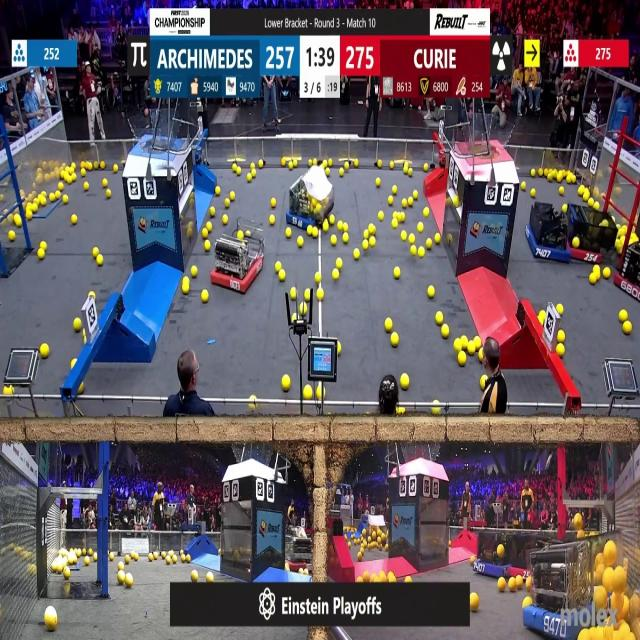ball_airborne: (594, 588, 606, 608)
ball_ground: (44, 610, 57, 632), (468, 594, 478, 612), (399, 375, 408, 390), (304, 386, 314, 399), (40, 344, 49, 358), (282, 376, 290, 391), (390, 334, 398, 348), (385, 318, 393, 332), (458, 352, 466, 366), (126, 574, 134, 587), (557, 344, 565, 357), (498, 577, 506, 590), (624, 322, 632, 334), (316, 288, 324, 300), (467, 342, 475, 354), (454, 340, 462, 352), (443, 324, 450, 337), (74, 318, 81, 331), (206, 571, 214, 582), (116, 572, 124, 583), (571, 238, 579, 249), (603, 268, 610, 280), (435, 313, 442, 325), (621, 310, 628, 322), (305, 288, 312, 300), (558, 332, 565, 344), (473, 338, 480, 350), (316, 386, 323, 398), (460, 337, 467, 349), (431, 408, 439, 418), (556, 304, 564, 314), (380, 571, 388, 581), (481, 376, 487, 389), (37, 249, 44, 260), (331, 270, 338, 281), (14, 216, 21, 227), (478, 350, 485, 361), (394, 268, 400, 280), (290, 288, 296, 300), (428, 286, 434, 298), (354, 248, 360, 260), (203, 290, 209, 302), (182, 282, 188, 294), (97, 255, 104, 265), (362, 240, 369, 250), (93, 247, 100, 257), (269, 215, 276, 225), (590, 275, 597, 285), (279, 271, 285, 282), (205, 241, 211, 252), (191, 570, 197, 581), (368, 223, 374, 234), (298, 305, 304, 316), (577, 185, 583, 196), (363, 570, 369, 581), (370, 572, 378, 580), (523, 598, 531, 606), (8, 233, 15, 242), (285, 230, 292, 239), (452, 198, 459, 207), (568, 174, 575, 183), (316, 273, 322, 283), (276, 263, 282, 273), (412, 246, 418, 256), (323, 221, 329, 231), (419, 248, 425, 258), (297, 238, 303, 248), (330, 236, 336, 246), (434, 235, 440, 245), (426, 240, 432, 250), (106, 188, 112, 198), (190, 268, 196, 278), (203, 230, 209, 240), (410, 235, 416, 245), (379, 211, 385, 221), (338, 220, 344, 230), (64, 568, 70, 578), (308, 225, 314, 235), (388, 571, 394, 581), (398, 212, 404, 222), (594, 201, 600, 211), (356, 574, 363, 582), (55, 191, 62, 199), (344, 234, 349, 245), (71, 215, 77, 224), (418, 222, 424, 231), (388, 197, 394, 206), (423, 208, 429, 217), (368, 238, 374, 247), (400, 233, 406, 242), (409, 199, 415, 208), (83, 557, 89, 566), (594, 266, 600, 275), (539, 312, 545, 321), (402, 166, 408, 175), (27, 211, 33, 220), (66, 174, 72, 183), (88, 163, 94, 172), (40, 198, 46, 207), (231, 163, 237, 172), (541, 169, 547, 178), (32, 204, 38, 213), (338, 258, 343, 268), (313, 229, 318, 239), (78, 384, 83, 394), (584, 189, 589, 199), (187, 225, 192, 235), (406, 575, 413, 582), (210, 208, 216, 216), (530, 188, 536, 196), (363, 232, 369, 240), (40, 242, 46, 250), (271, 200, 277, 208), (530, 170, 536, 178), (63, 194, 69, 202), (80, 169, 86, 177), (59, 182, 65, 190), (236, 168, 242, 176), (231, 191, 237, 199), (7, 386, 13, 394), (413, 190, 419, 198), (324, 169, 330, 177), (108, 554, 114, 562), (356, 554, 362, 562), (250, 394, 256, 402), (556, 174, 562, 182), (392, 212, 398, 220), (222, 215, 227, 224), (392, 185, 397, 194), (392, 219, 397, 228), (103, 179, 108, 188), (291, 313, 296, 322), (559, 186, 564, 195), (329, 215, 334, 224), (589, 199, 594, 208), (338, 345, 343, 354), (89, 551, 94, 560), (562, 205, 568, 212), (546, 175, 552, 182), (90, 290, 96, 297), (83, 182, 88, 190), (101, 162, 106, 170), (340, 169, 345, 177), (215, 186, 220, 194), (258, 162, 263, 170), (224, 200, 229, 208), (120, 562, 125, 570), (354, 161, 359, 169), (49, 192, 54, 200), (378, 162, 383, 170), (309, 161, 314, 169), (72, 359, 77, 367), (327, 160, 332, 168), (163, 552, 168, 560), (377, 178, 381, 187), (344, 222, 348, 231), (298, 568, 304, 574), (167, 558, 173, 564), (249, 402, 255, 408), (247, 175, 252, 182), (148, 555, 153, 562), (345, 163, 350, 170), (71, 163, 76, 170), (292, 160, 297, 167), (522, 182, 526, 190), (402, 200, 406, 208), (186, 555, 190, 563), (424, 165, 428, 173), (208, 222, 212, 230), (282, 160, 286, 168), (409, 168, 413, 176), (74, 557, 78, 565), (387, 162, 392, 168), (250, 164, 255, 170), (113, 166, 117, 173), (252, 171, 256, 178), (72, 175, 76, 182), (288, 163, 292, 170), (80, 163, 84, 170), (449, 539, 453, 546), (305, 569, 309, 575)
goal: (461, 118, 518, 158), (128, 115, 186, 152)
robot_blue: (528, 536, 602, 636), (524, 202, 569, 261), (285, 176, 335, 228), (474, 528, 516, 578)
robot_red: (213, 224, 264, 292), (572, 206, 618, 264), (616, 235, 640, 303), (284, 529, 315, 571)
